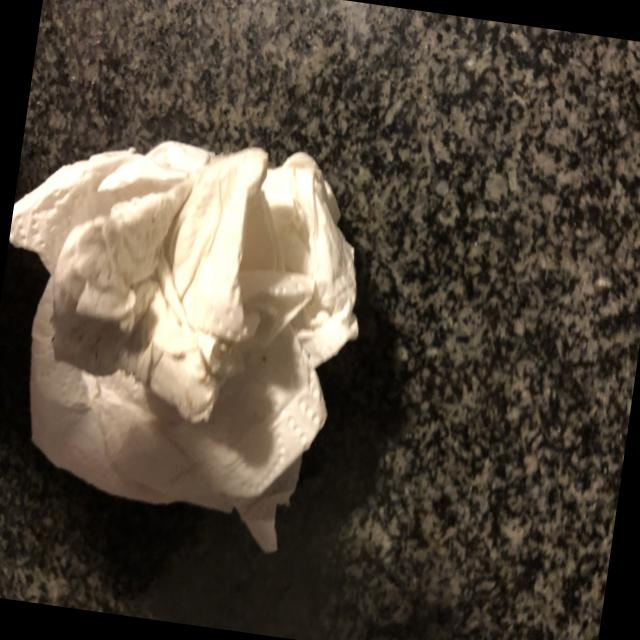organic waste: (0, 111, 385, 563)
